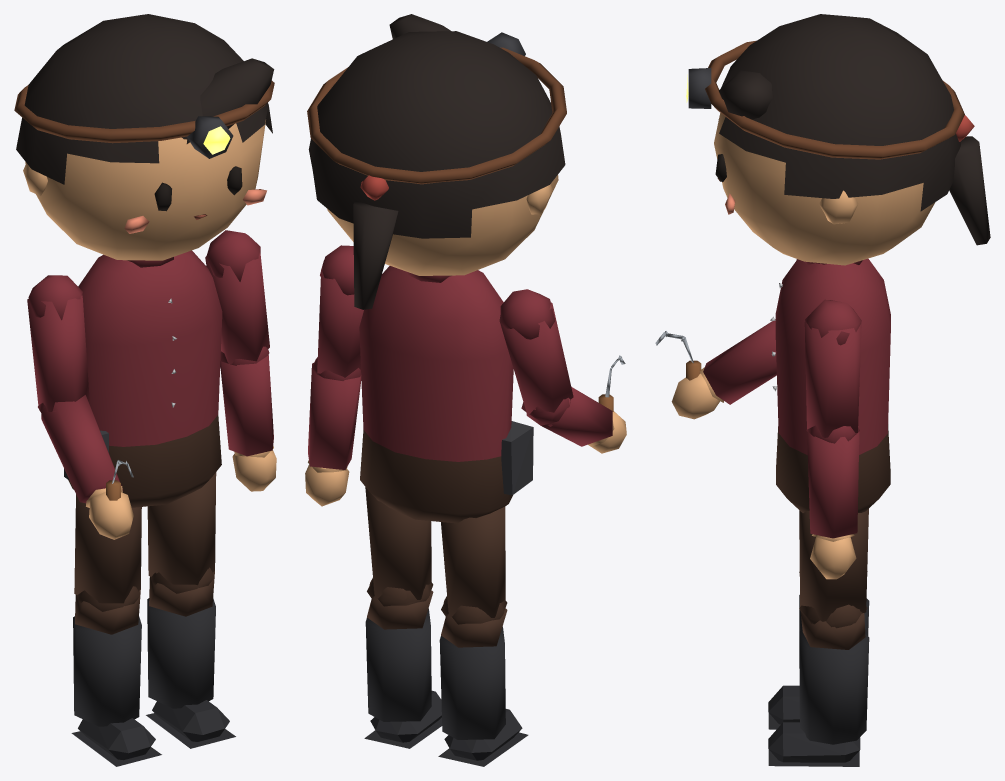
Rendered from south_rubber_tapper.glb.
The picture shows the model from 3 angles, left to right: view 1: azimuth 30°, elevation 25°; view 2: azimuth 150°, elevation 25°; view 3: azimuth 270°, elevation 25°; orthographic projection.
Parts seen in each view (by area): view 1: head, body, shin_L, shin_R, arm_R, arm_L, forearm_R, leg_L, forearm_L, leg_R; view 2: head, body, shin_R, shin_L, arm_R, leg_R, forearm_L, leg_L, arm_L, forearm_R; view 3: head, body, shin_L, arm_L, forearm_L, forearm_R, leg_L, shin_R.
Boxes of the visible parts, <box> form: head: <box>14,14,274,260</box>; body: <box>64,250,222,507</box>; shin_L: <box>146,569,235,748</box>; shin_R: <box>71,589,161,766</box>; arm_R: <box>27,275,89,413</box>; arm_L: <box>205,230,269,365</box>; forearm_R: <box>41,395,133,539</box>; leg_L: <box>147,472,216,593</box>; forearm_L: <box>220,355,276,491</box>; leg_R: <box>74,494,141,611</box>; head: <box>307,14,566,309</box>; body: <box>359,266,533,523</box>; shin_R: <box>438,596,528,766</box>; shin_L: <box>364,578,442,748</box>; arm_R: <box>499,289,573,426</box>; leg_R: <box>441,507,507,624</box>; forearm_L: <box>305,357,361,506</box>; leg_L: <box>365,487,433,606</box>; arm_L: <box>312,245,363,380</box>; forearm_R: <box>526,387,626,453</box>; head: <box>686,14,990,265</box>; body: <box>770,258,890,512</box>; shin_L: <box>768,604,869,766</box>; arm_L: <box>804,299,861,443</box>; forearm_L: <box>807,427,859,579</box>; forearm_R: <box>671,319,776,419</box>; leg_L: <box>799,509,868,627</box>; shin_R: <box>768,572,869,729</box>.
Bounding box in the file's own units: 0.5426 × 1.46 × 0.6191.
